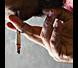Cigarette: (16, 10, 21, 53)
